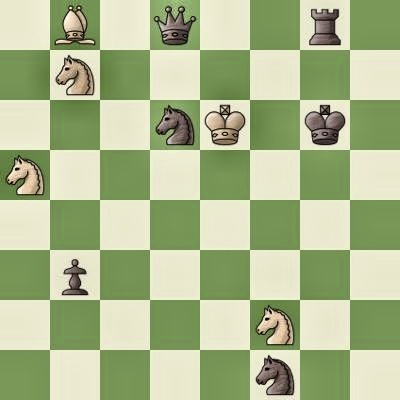black-king: (300, 100, 350, 150)
black-knight: (150, 100, 200, 150), (250, 350, 300, 400)
black-pawn: (50, 250, 100, 300)
black-queen: (150, 0, 200, 50)
black-rook: (300, 0, 350, 50)
white-bishop: (50, 0, 100, 50)
white-king: (200, 100, 250, 150)
white-knight: (50, 50, 100, 100), (0, 150, 50, 200), (250, 300, 300, 350)
